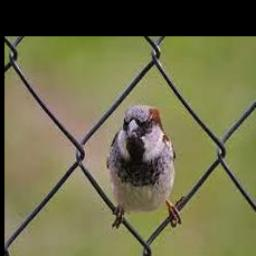Sparrow: (107, 104, 177, 215)
